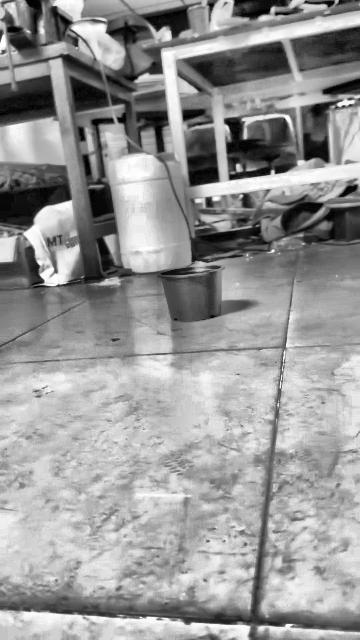pot: (156, 265, 223, 321)
